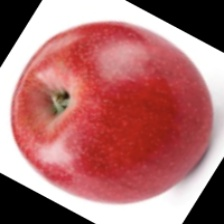apple: (32, 8, 220, 196)
